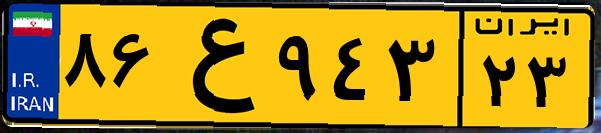2: (475, 38, 525, 113)
3: (385, 28, 445, 110), (525, 38, 570, 115)
4: (330, 28, 385, 110)
6: (110, 28, 158, 98)
8: (57, 26, 110, 100)
9: (270, 28, 330, 110)
ع: (158, 12, 270, 120)
